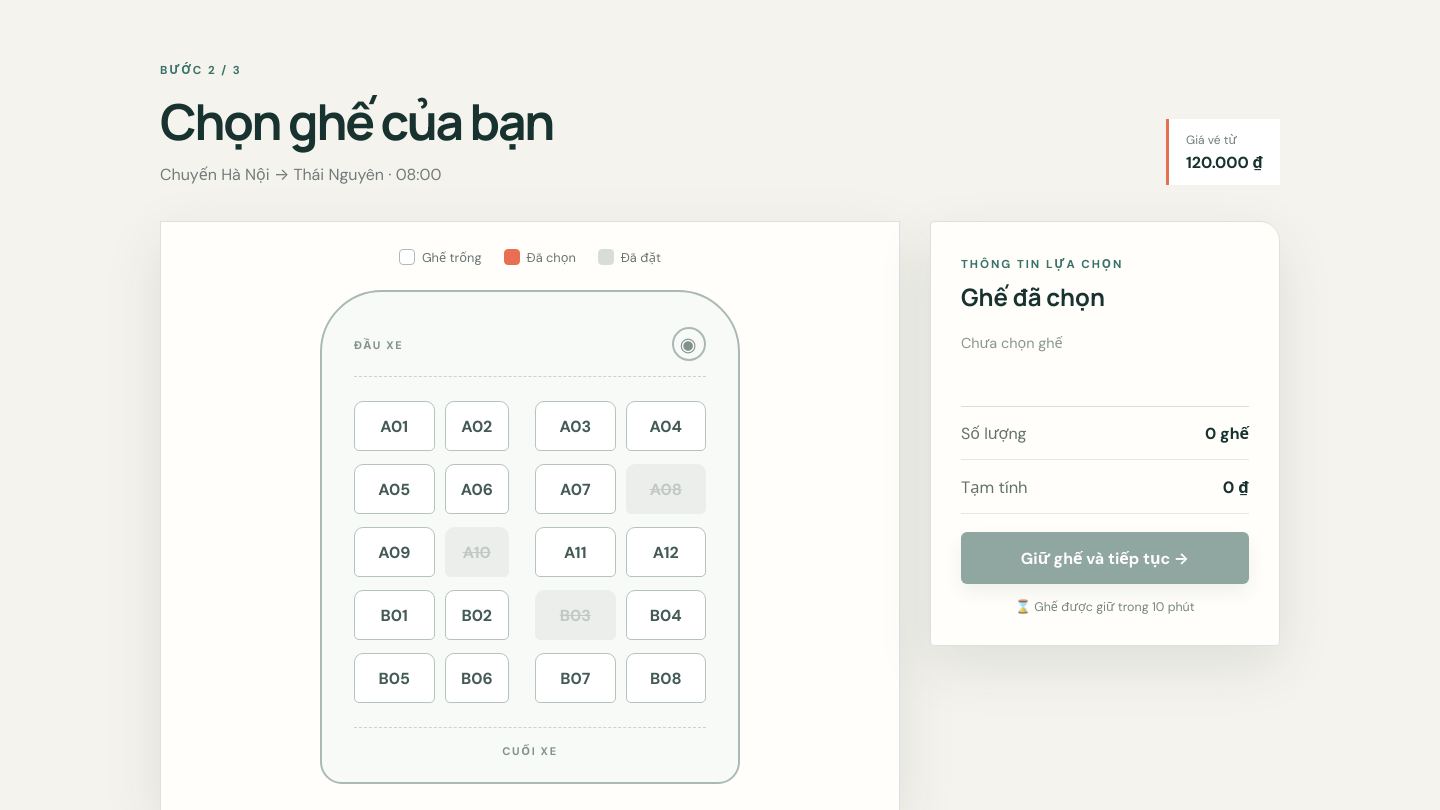
Test: SelectSeat › trả ghế và quay lại màn hình chọn ghế khi hết hạn
Click the button named "Ghế A01 còn trống" at (394, 426), box [354, 401, 434, 451]
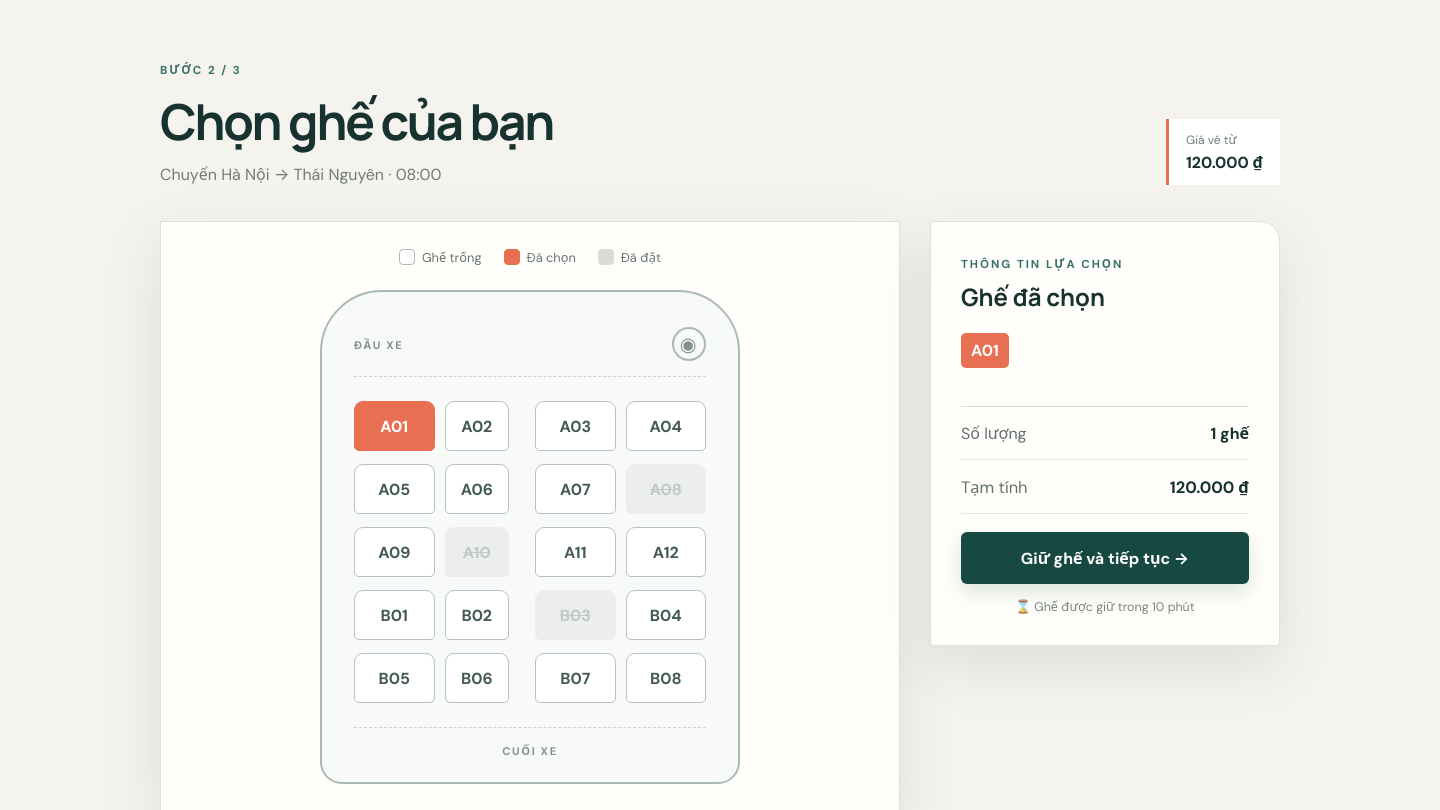
Click the button "Giữ ghế và tiếp tục →" at (1105, 558), box [961, 532, 1249, 584]
Wait 1000 ms
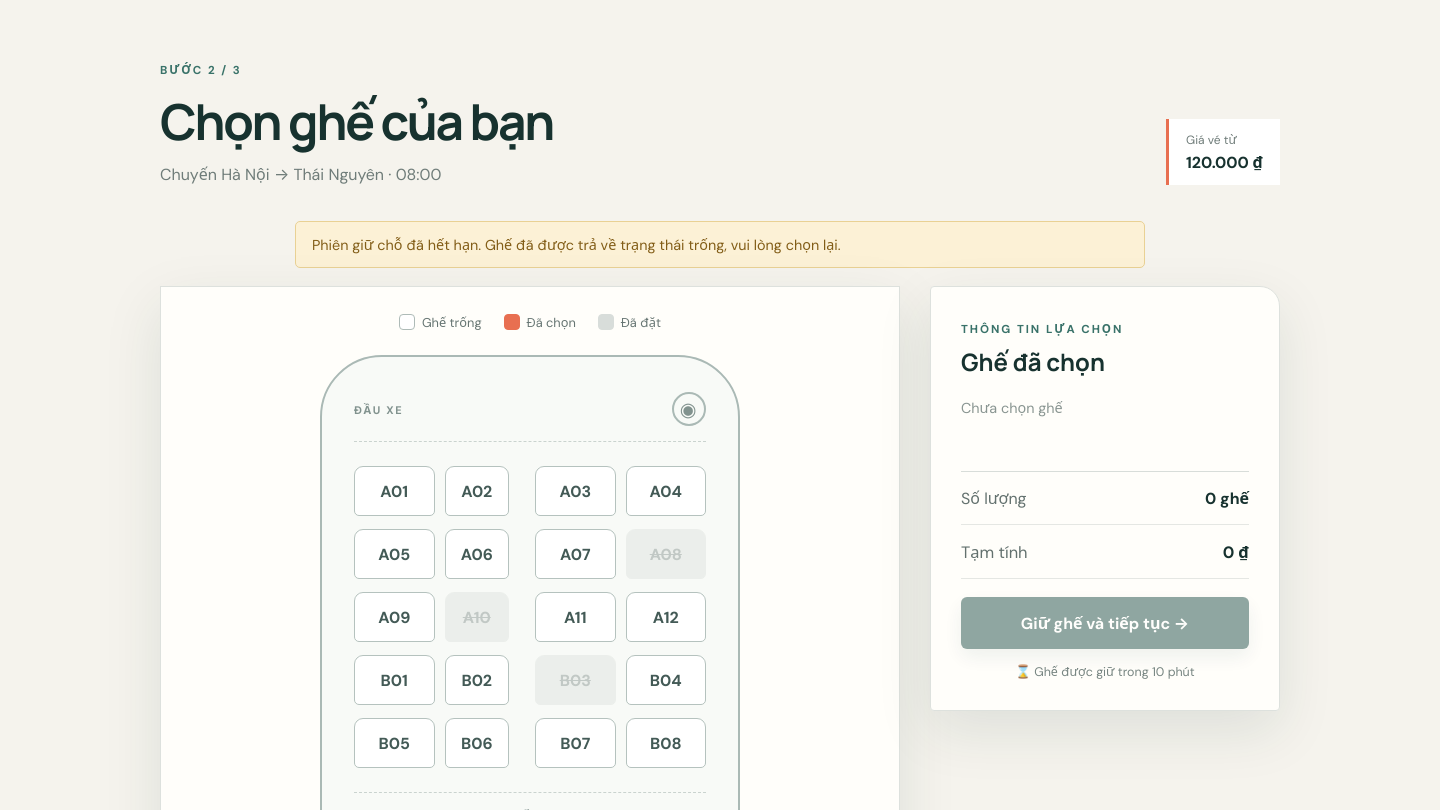
Check: the heading "Chọn ghế của bạn" is shown, box [160, 87, 553, 155]
Check: the message shows "Phiên giữ chỗ đã hết hạn", box [312, 236, 841, 254]
